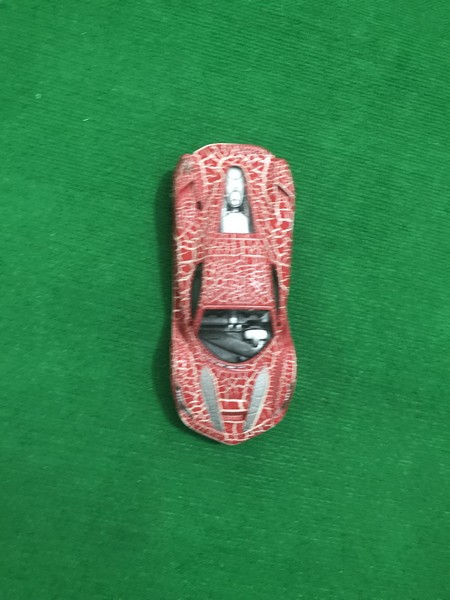RC: (166, 141, 299, 444)
